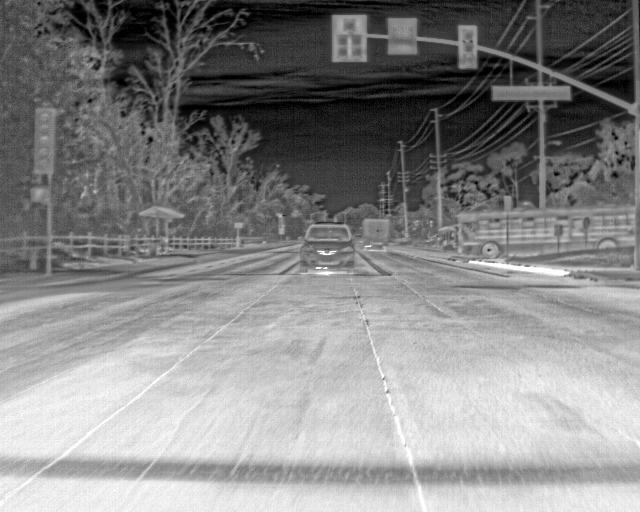car: (301, 221, 355, 275)
